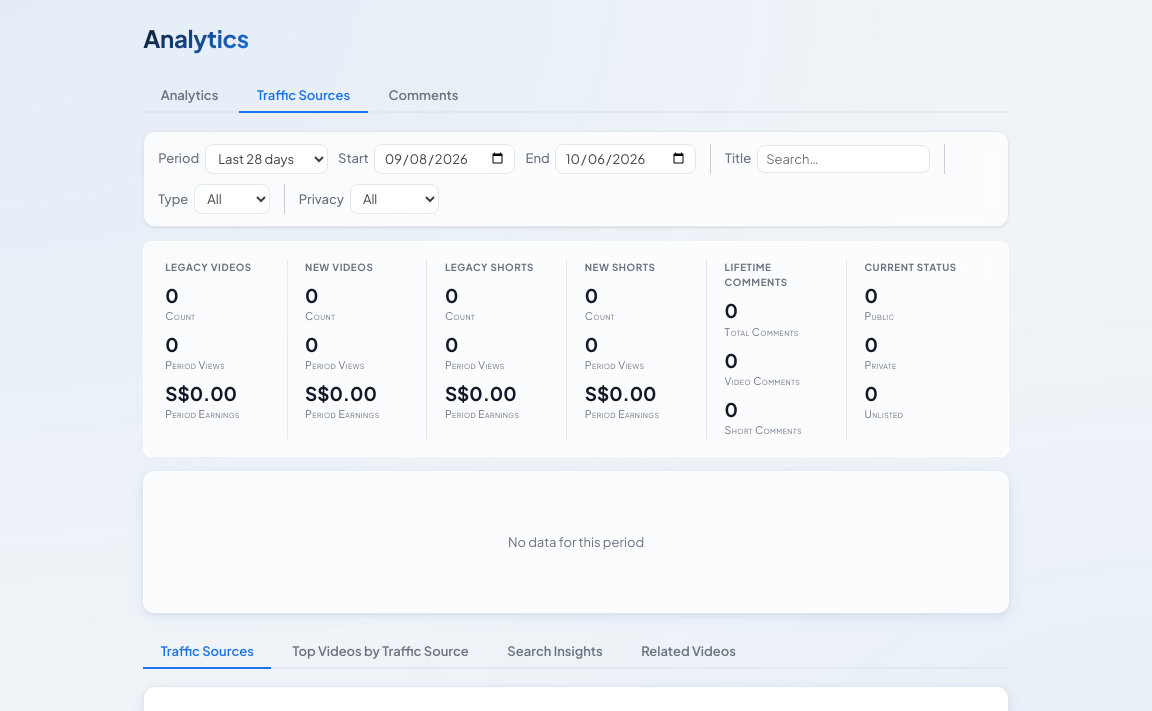
Traffic Sources sub-tabs › defaults to the Traffic Sources sub-tab, switching to Search Insights renders its three columns
Expected: the text "Top Search Terms" is not shown
Step 1. Click the button "Search Insights" → point(555, 652), box [490,634,620,669]
(page scrolled)
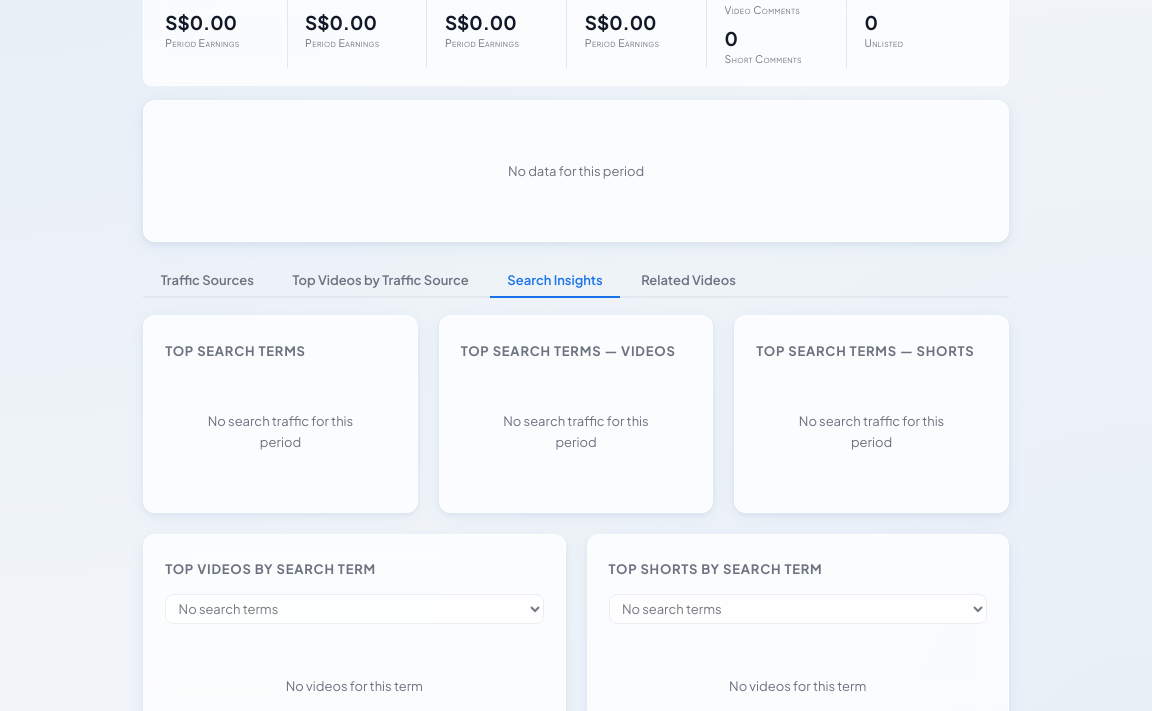
Now the text "Top Search Terms" is shown, box [165,343,306,359]
Now the text "Top Search Terms — Videos" is shown, box [461,341,691,362]
Now the text "Top Search Terms — Shorts" is shown, box [756,341,987,362]
